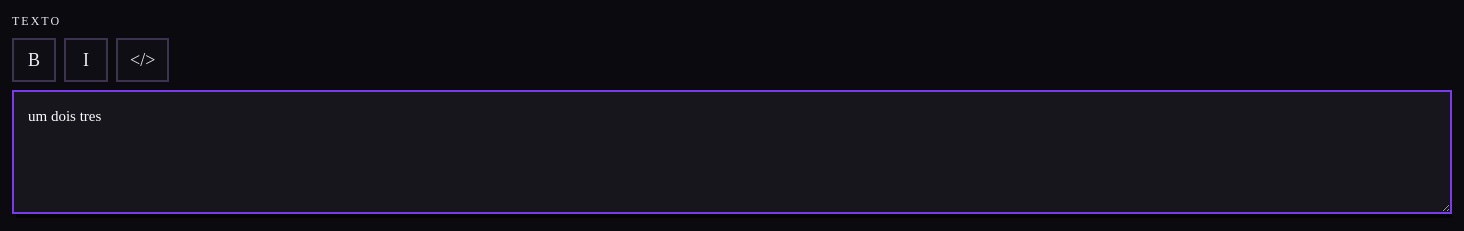
Scenario: AreaDeTexto: barra de Markdown › Negrito envolve a seleção e mantém o texto selecionado
Click the button named "Negrito" at (34, 60), box [12,38,56,82]
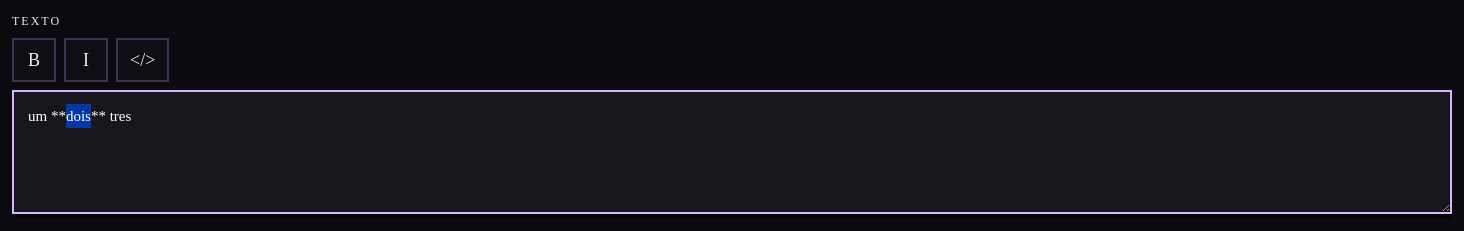
Check: the text box labelled "TEXTO" holds "um **dois** tres", box [12,90,1452,214]
